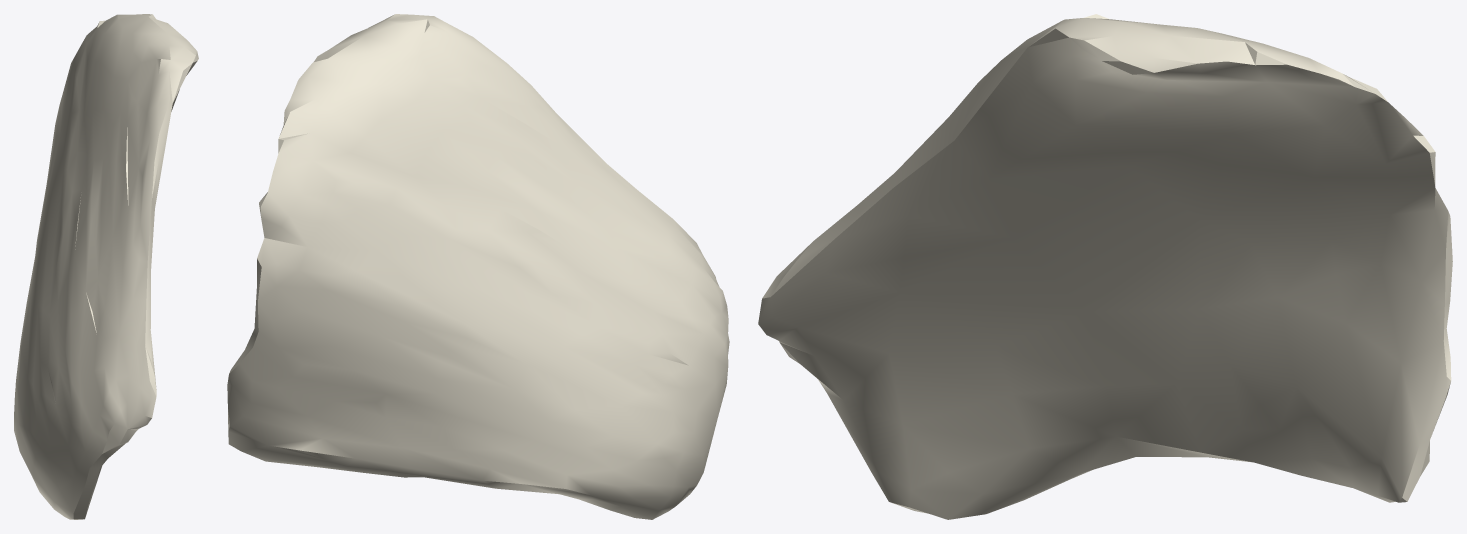
File: fma326805-r_mm1478m.glb
3 renders of one model, left to right at view 1: azimuth 30°, elevation 25°; view 2: azimuth 150°, elevation 25°; view 3: azimuth 270°, elevation 25°, orthographic. The views are drawn at different scales.
Visible parts, largest first — view 1: FMA326805-R_MM1478M; view 2: FMA326805-R_MM1478M; view 3: FMA326805-R_MM1478M.
Boxes of the visible parts, bbox=[...] form: FMA326805-R_MM1478M: bbox=[14, 14, 198, 519]; FMA326805-R_MM1478M: bbox=[227, 14, 729, 519]; FMA326805-R_MM1478M: bbox=[758, 14, 1452, 519].
Bounding box in the file's own units: 0.0049 × 0.00806 × 0.0082.
